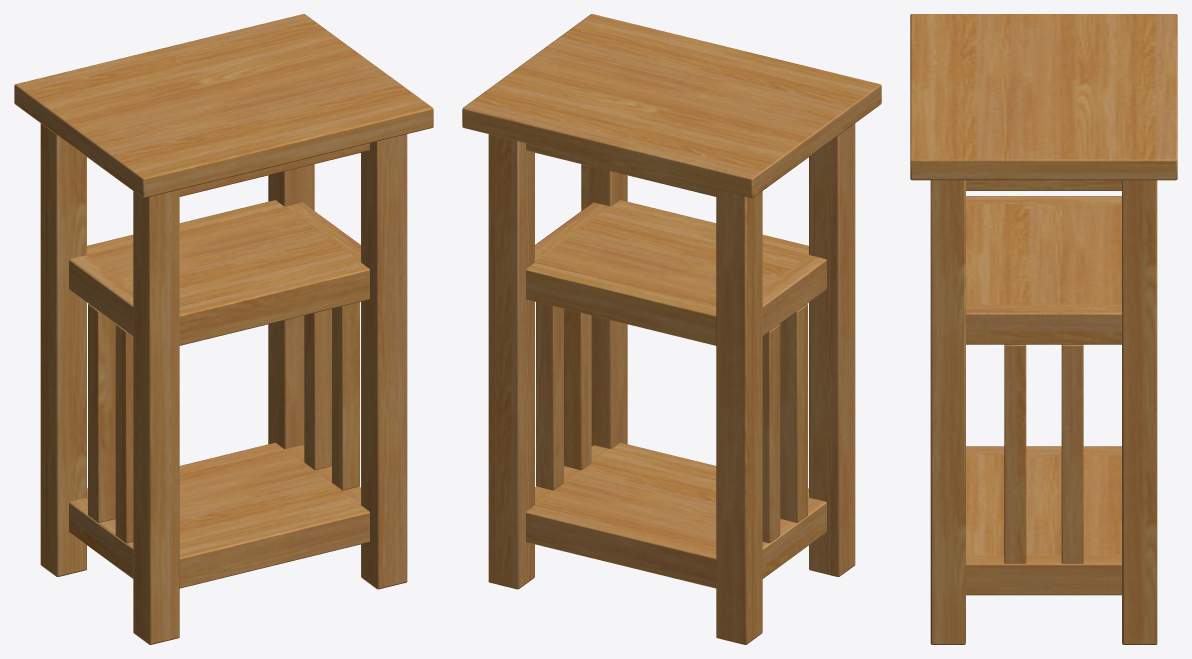
File: B018K6NSIG.glb
3 views of the same model, side by side, from view 1: azimuth 30°, elevation 25°; view 2: azimuth 150°, elevation 25°; view 3: azimuth 270°, elevation 25° (orthographic). The views are drawn at different scales.
Visible parts, largest first — view 1: B018K6NSIG; view 2: B018K6NSIG; view 3: B018K6NSIG.
Part boxes in pixels (x1,y1,x2,y2): B018K6NSIG: [14, 14, 433, 644]; B018K6NSIG: [462, 14, 881, 644]; B018K6NSIG: [910, 14, 1177, 644].
Size of the model in its own units: 0.3498 by 0.5499 by 0.2697.
1 material, 1 textured.
